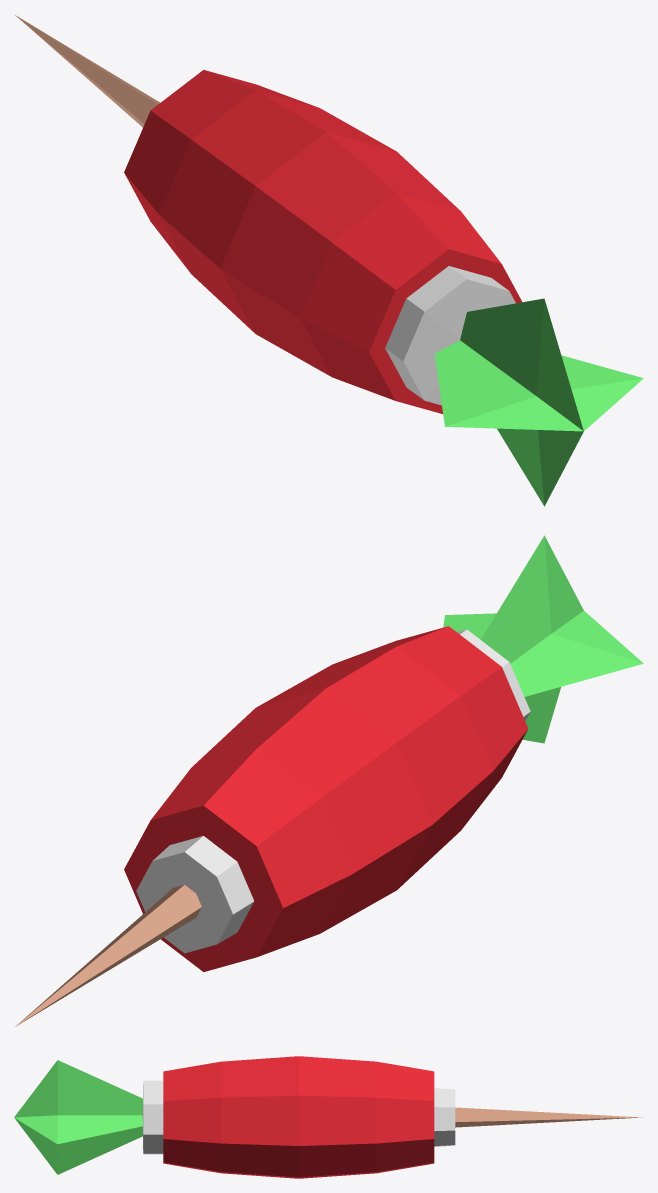
Rendered from VR_Dardo.fbx.
3 renders of one model, top to bottom at view 1: azimuth 30°, elevation 25°; view 2: azimuth 150°, elevation 25°; view 3: azimuth 270°, elevation 25°, orthographic. The views are drawn at different scales.
Visible parts, largest first — view 1: dardo; view 2: dardo; view 3: dardo.
Part boxes in pixels (box(x1,y1,x2,y2)): dardo: box(15, 15, 643, 506); dardo: box(15, 535, 643, 1026); dardo: box(14, 1056, 643, 1178).
Size of the model in its own units: 24.97 by 24.97 by 116.
